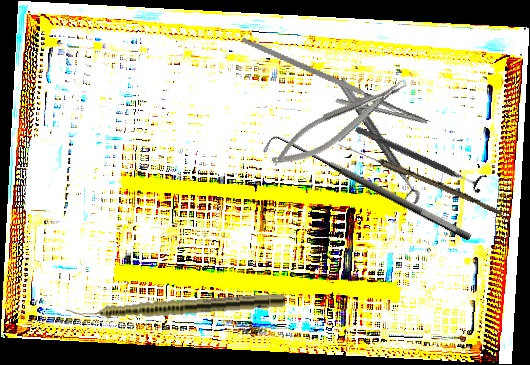Fixation Ring: (326, 77, 424, 211), (351, 118, 488, 196)
Handpiece: (65, 290, 286, 323)
Hook Surgical: (259, 124, 474, 257)
Needle Holder: (229, 36, 436, 140), (264, 72, 416, 176)
Surgical Spoon: (335, 141, 504, 215)
